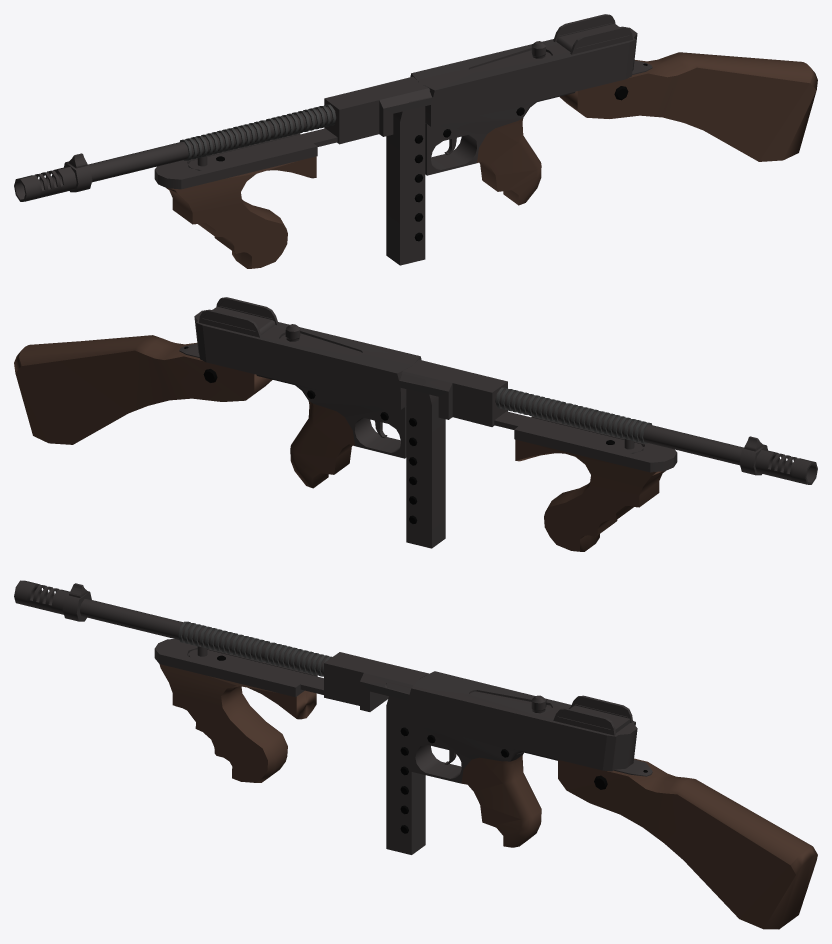
File: thompson (2).fbx
3 renders of one model, top to bottom at view 1: azimuth 30°, elevation 25°; view 2: azimuth 150°, elevation 25°; view 3: azimuth 330°, elevation 25°, orthographic.
Visible parts, largest first — view 1: pCylinder56; view 2: pCylinder56; view 3: pCylinder56.
Boxes of the visible parts, x1,y1,x2,y2 form: pCylinder56: [14, 14, 817, 268]; pCylinder56: [14, 297, 817, 551]; pCylinder56: [14, 580, 817, 929].
Size of the model in its own units: 84.88 by 19.04 by 4.37.
